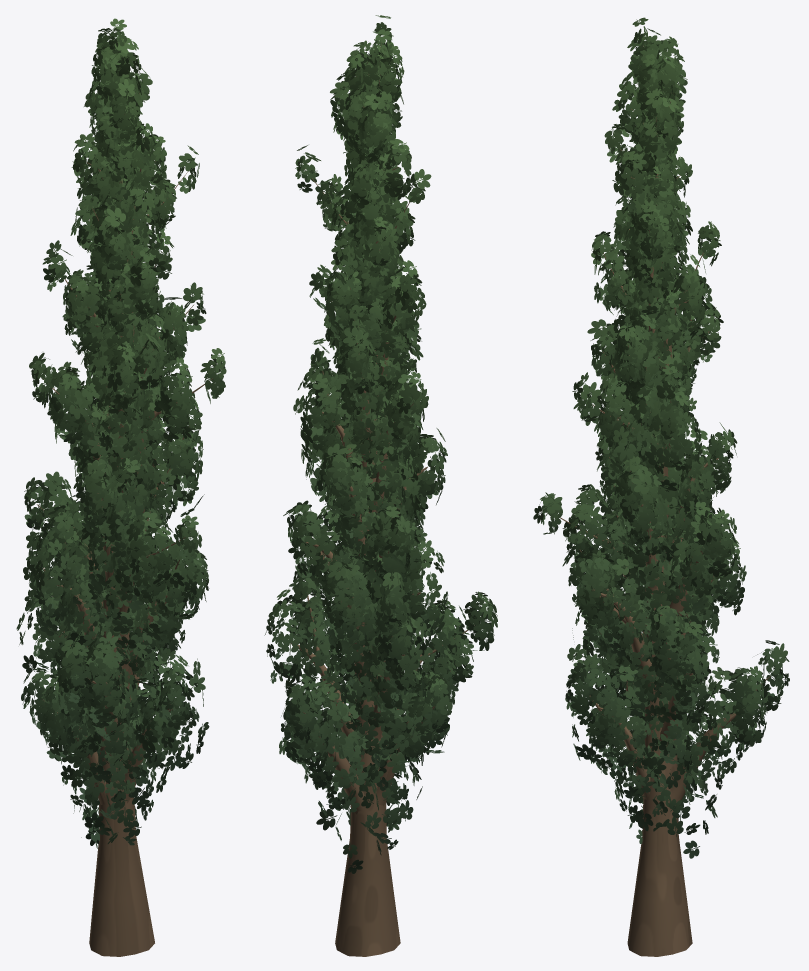
The model's file is tree.gltf.
The picture shows the model from 3 angles, left to right: view 1: azimuth 30°, elevation 25°; view 2: azimuth 150°, elevation 25°; view 3: azimuth 270°, elevation 25°; orthographic projection.
Visible parts, largest first — view 1: Tree_LOD0; view 2: Tree_LOD0; view 3: Tree_LOD0.
Boxes of the visible parts, x1=… form: Tree_LOD0: x1=16, y1=18, x2=226, y2=956; Tree_LOD0: x1=264, y1=15, x2=497, y2=956; Tree_LOD0: x1=533, y1=17, x2=789, y2=956.
Size of the model in its own units: 6.31 by 30.39 by 7.91.
Materials: 2 (2 with a texture image).
